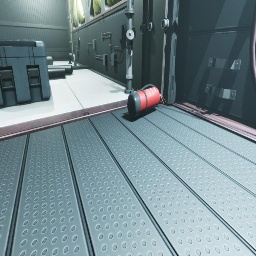FireExtinguisher ]: (127, 84, 166, 117)
NitrogenTank ,: (46, 56, 53, 65)
